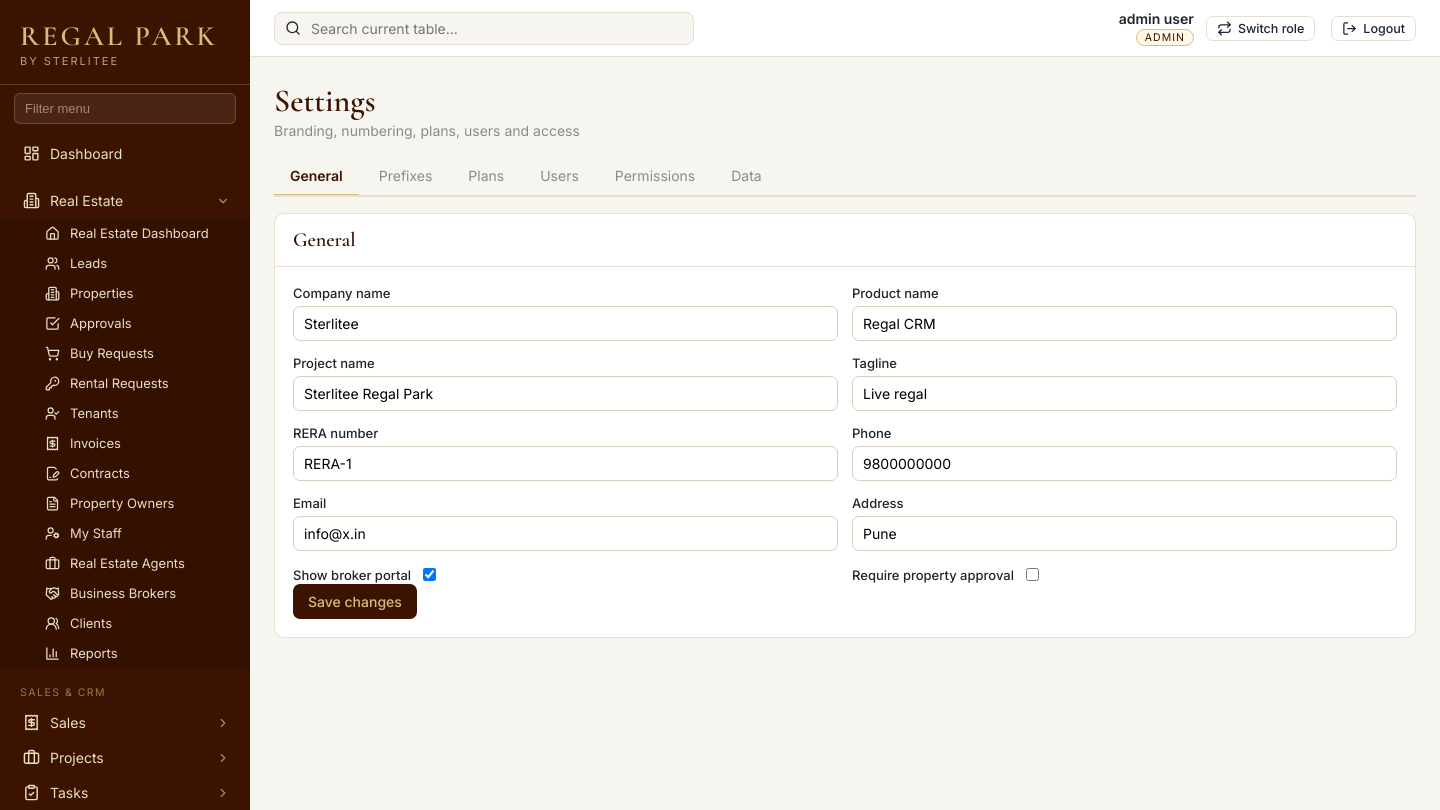
Settings tabs (PLAN §7) › Permissions tab renders (Save permissions)
The image size is (1440, 810).
Check: the button "Logout" is shown, box [1331, 16, 1416, 40]
Check: the heading "Settings" is shown, box [274, 81, 376, 120]
What coordinates should you click on to do the following:
click the tab "Permissions"
I would click on:
 (655, 177)
Its box is [599, 157, 711, 197].
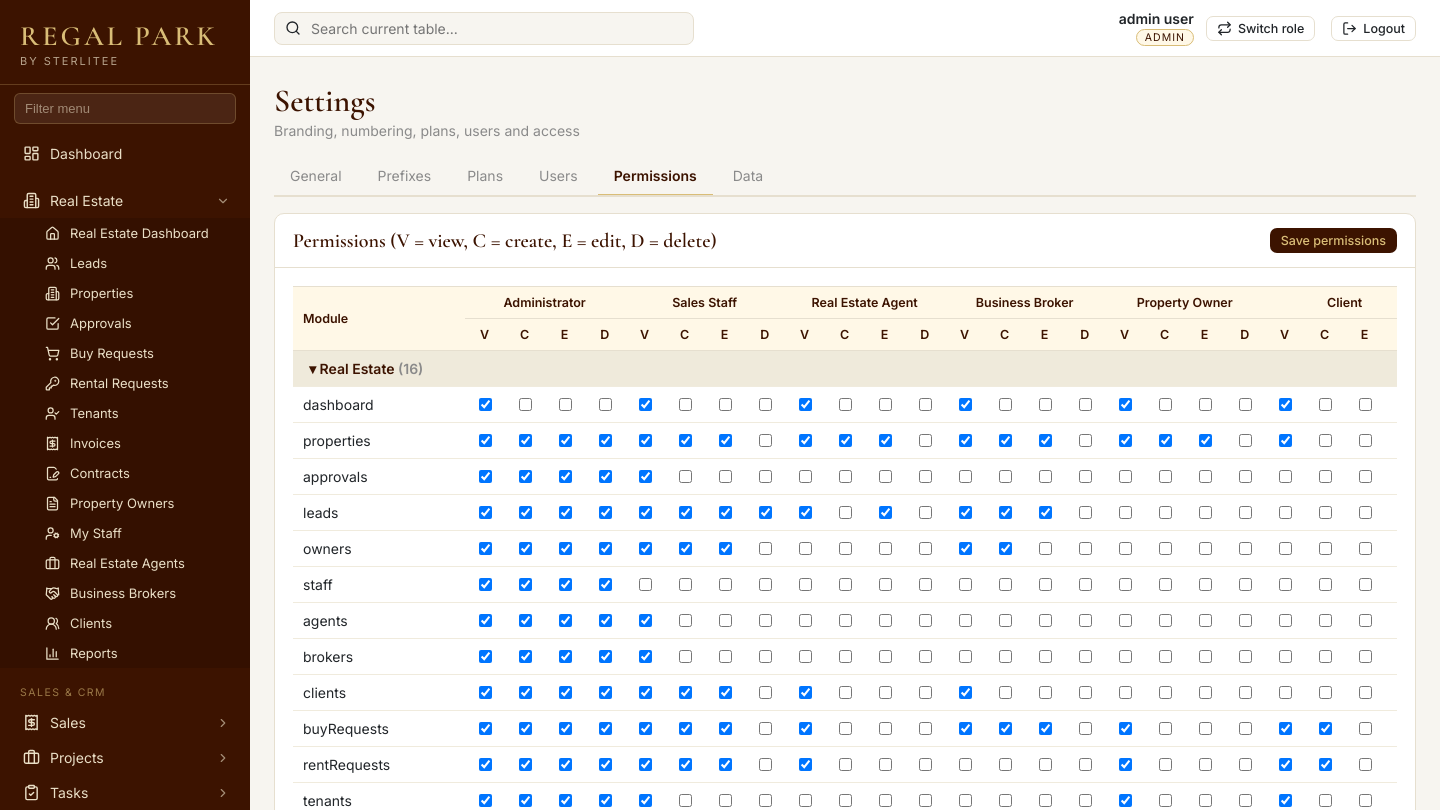
Check: the button "Save permissions" is shown, box [1270, 228, 1397, 253]
